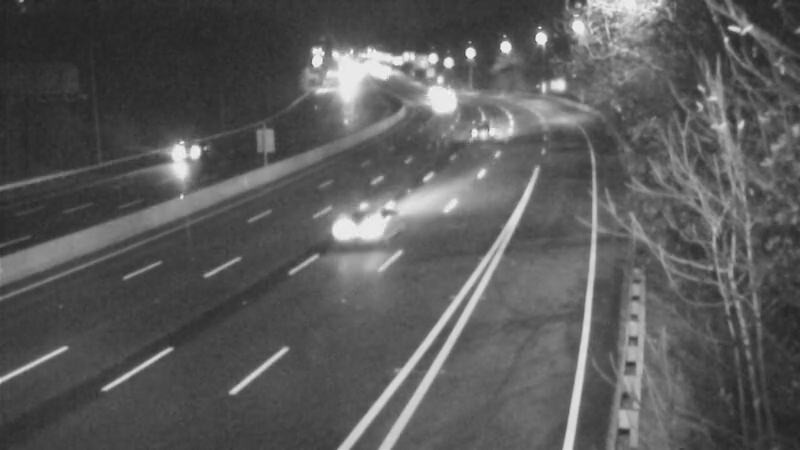vehicle: (312, 187, 392, 267), (136, 117, 216, 197), (407, 64, 457, 114), (420, 75, 470, 125), (416, 81, 466, 131), (453, 108, 503, 158)
